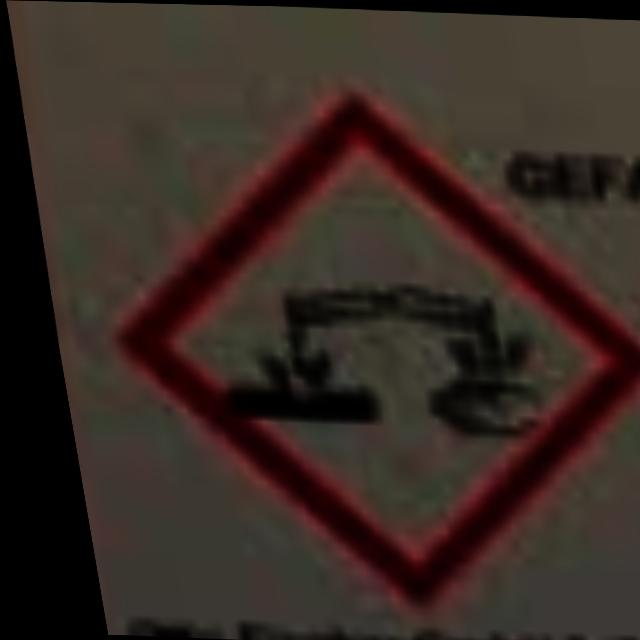corrosive: (57, 74, 640, 603)
